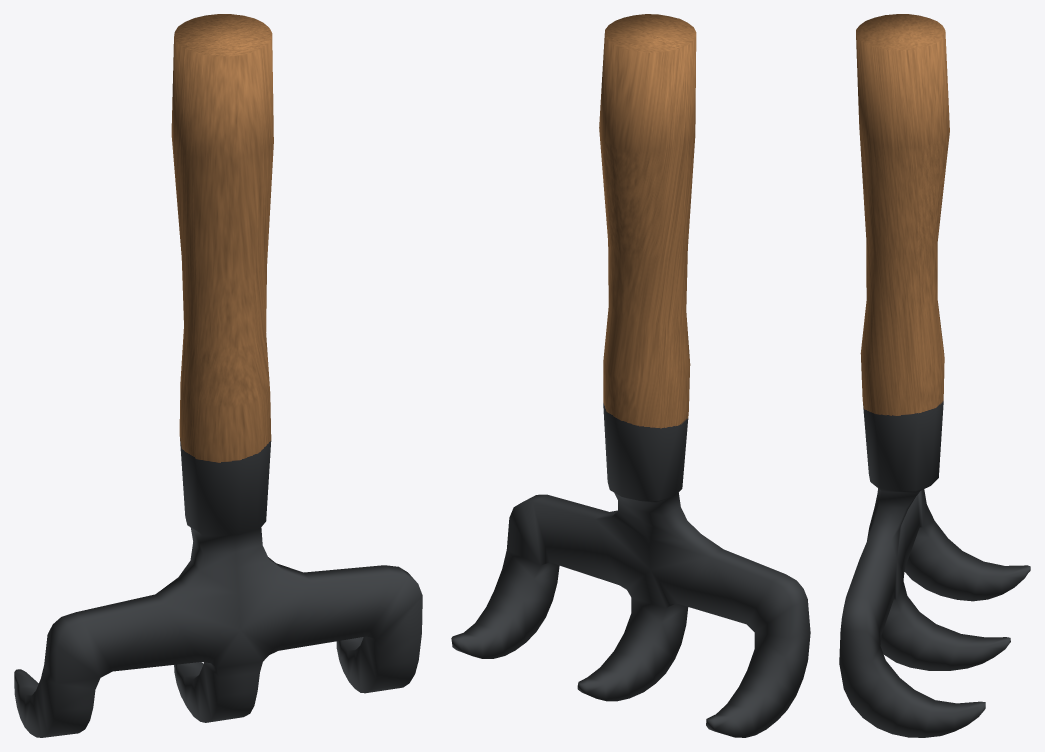
The model's file is gathering_rake.fbx.
3 renders of one model, left to right at view 1: azimuth 30°, elevation 25°; view 2: azimuth 150°, elevation 25°; view 3: azimuth 270°, elevation 25°, orthographic. The views are drawn at different scales.
Parts seen in each view (by area): view 1: Gathering_Rake; view 2: Gathering_Rake; view 3: Gathering_Rake.
Part boxes in pixels (x1,y1,x2,y2): Gathering_Rake: (14, 14, 422, 737); Gathering_Rake: (451, 14, 810, 737); Gathering_Rake: (839, 14, 1030, 737).
Size of the model in its own units: 0.2005 by 0.3887 by 0.107.
Materials: 1 (1 with a texture image).
